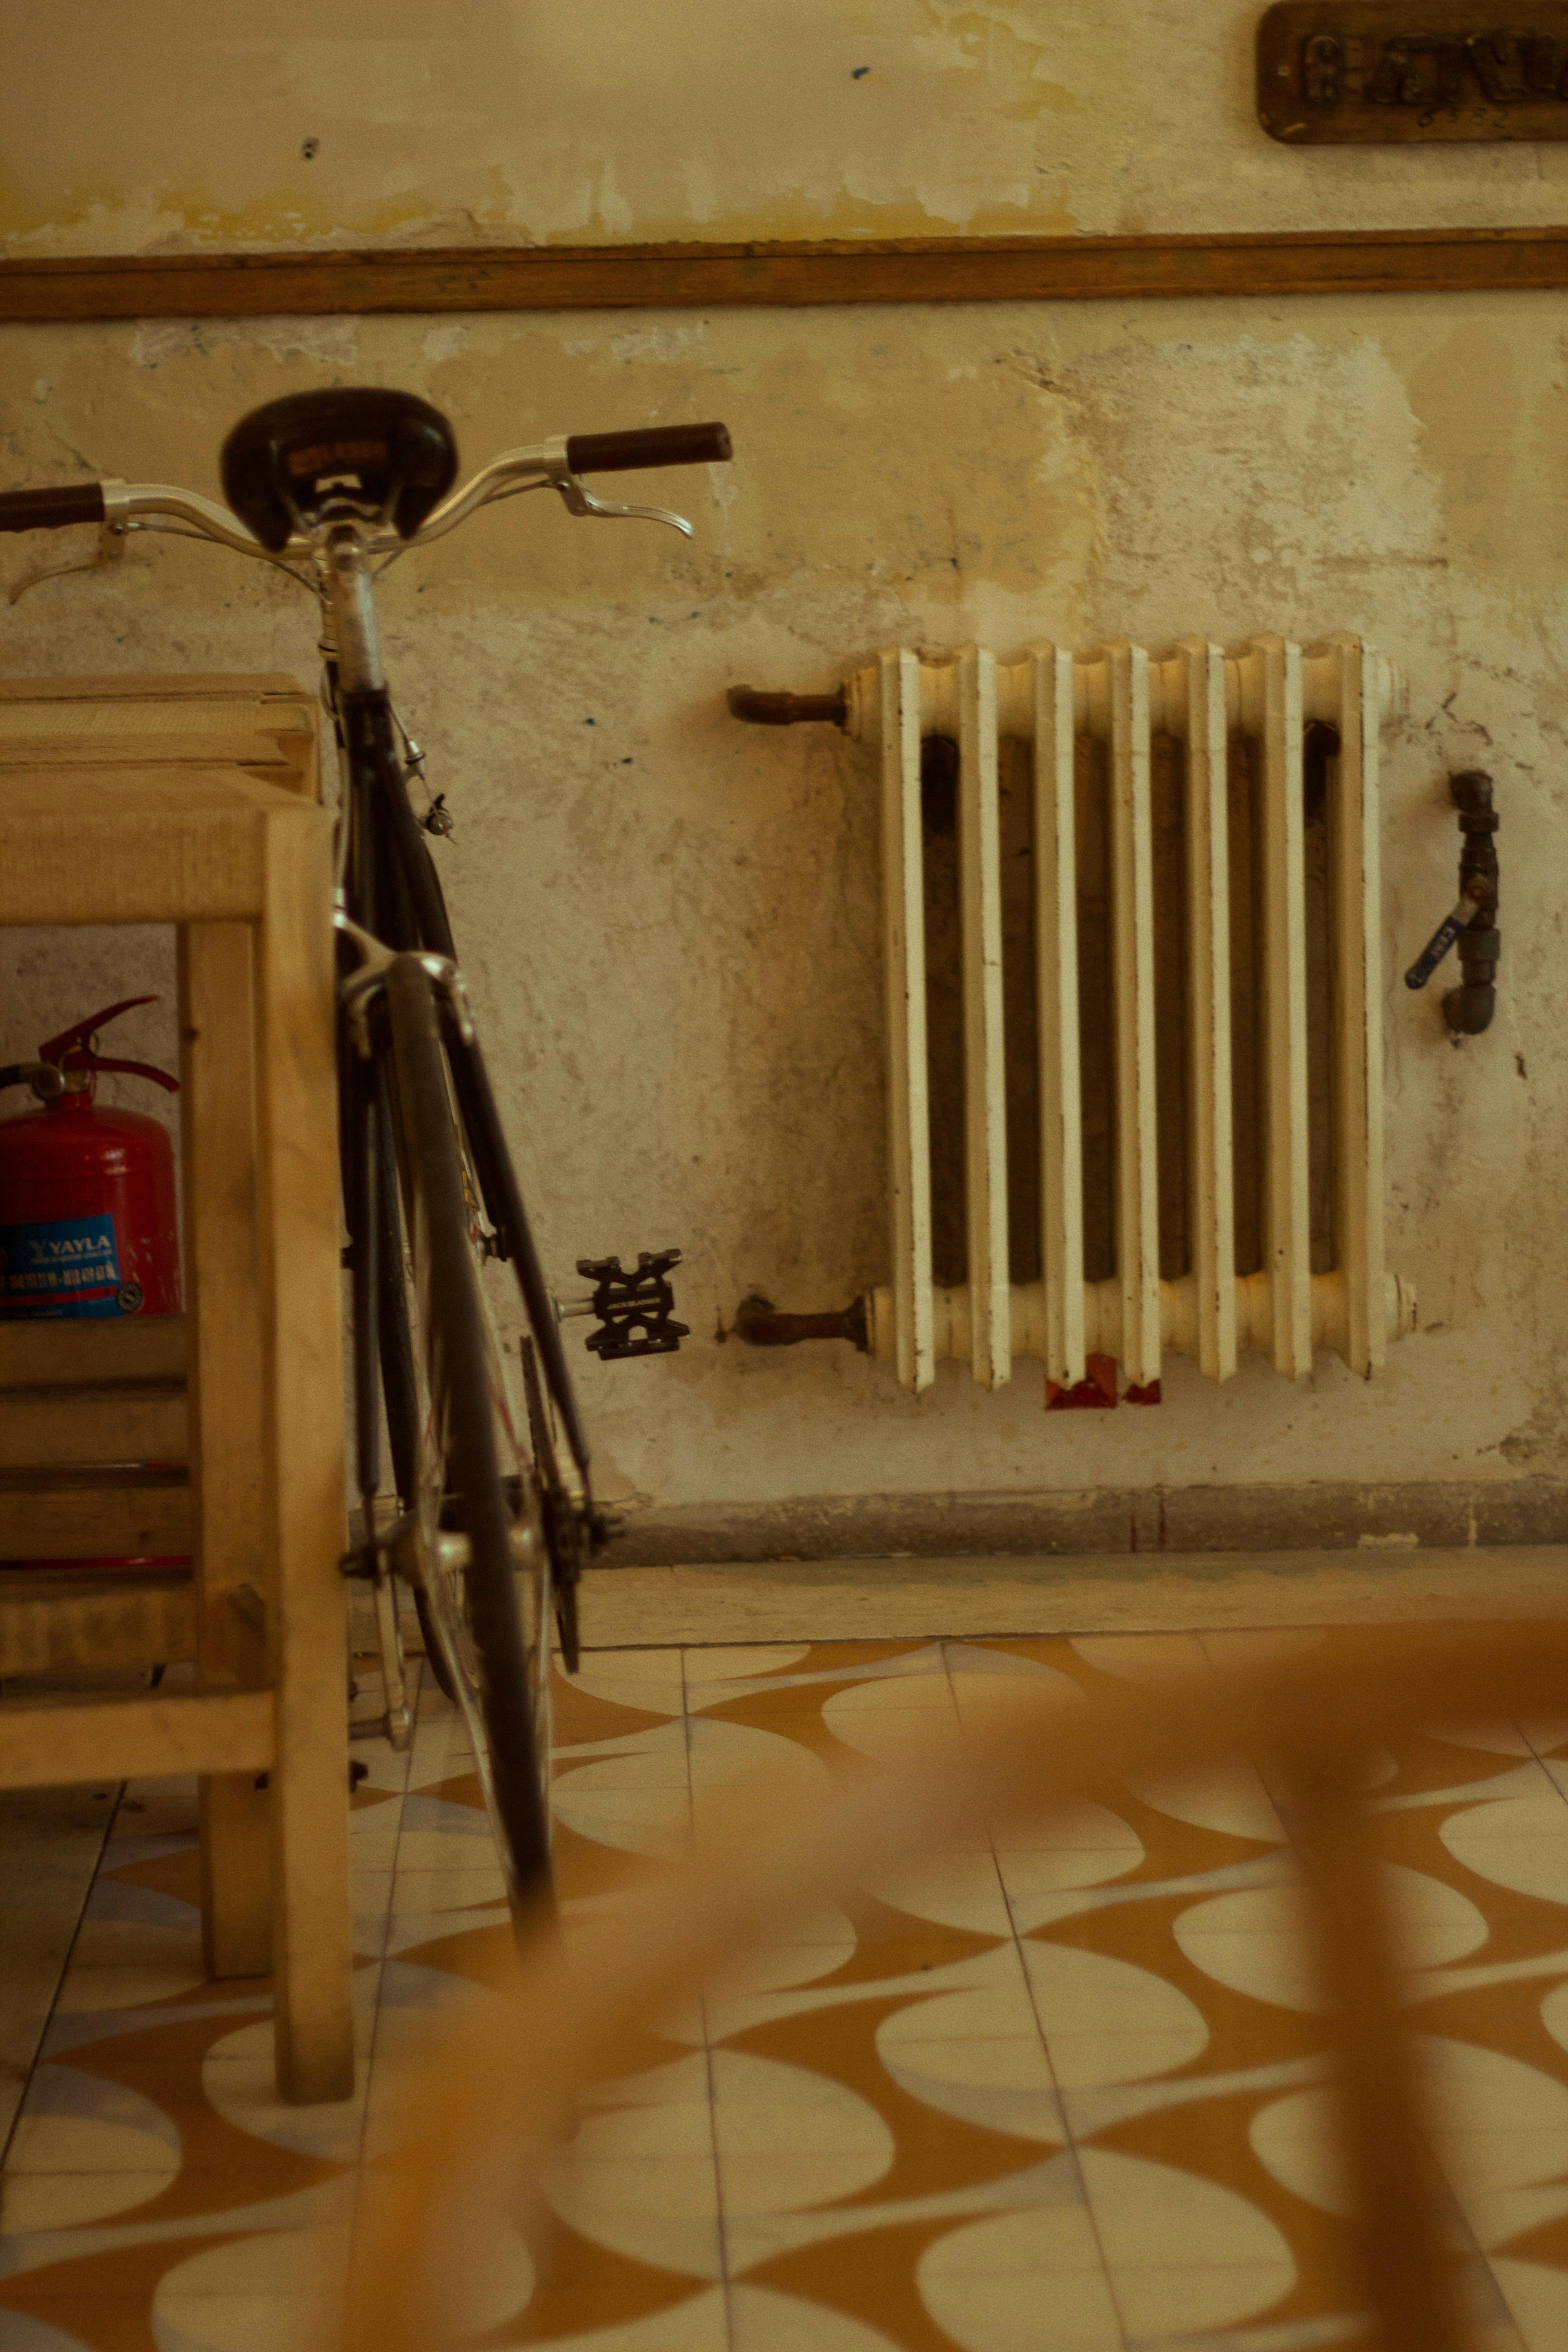extintor: (5, 978, 207, 1580)
